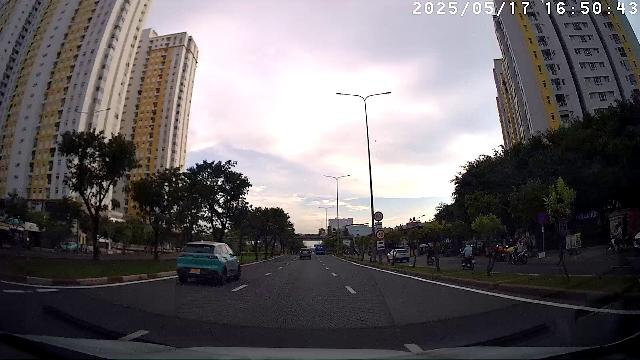127-toc-do-toi-da-60: (376, 230, 386, 240)
127-toc-do-toi-da-80: (374, 211, 384, 221)
